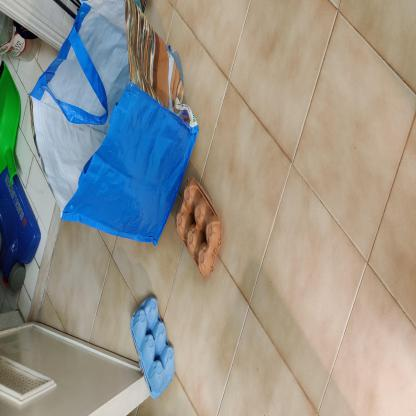Egg carton: (130, 296, 175, 399), (176, 177, 222, 277)
Polypropylene bag: (27, 0, 199, 247)
